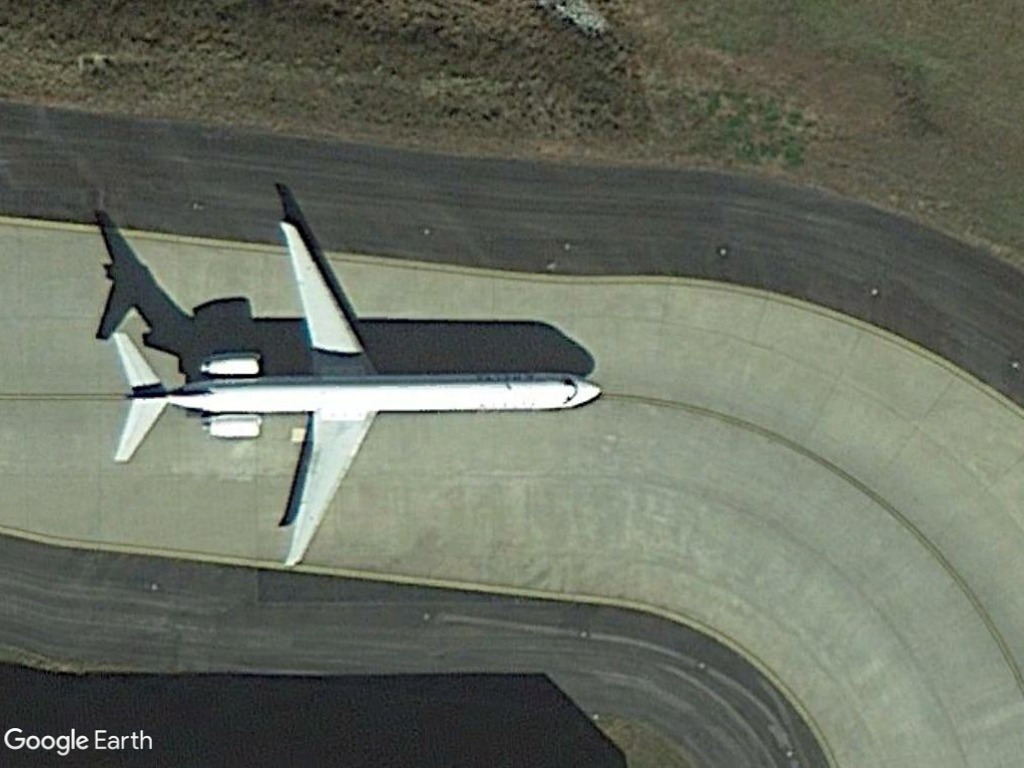chartered: (106, 213, 607, 575)
